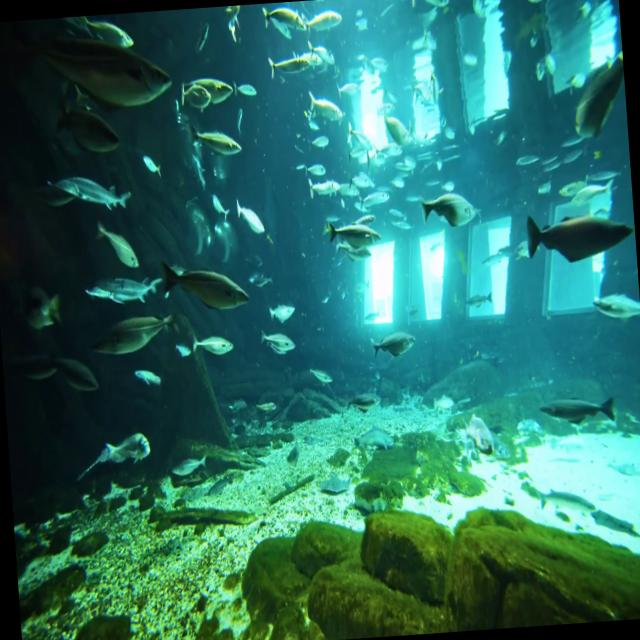fish: (22, 10, 176, 120), (511, 202, 637, 272), (157, 248, 255, 322), (42, 153, 142, 218), (566, 42, 628, 146), (70, 426, 161, 490), (419, 177, 484, 240), (92, 310, 185, 354), (80, 268, 173, 308), (46, 341, 100, 407), (89, 207, 138, 279), (366, 319, 426, 376), (254, 38, 317, 88), (302, 74, 348, 134), (324, 218, 388, 260), (186, 320, 238, 370), (189, 119, 246, 163), (587, 284, 640, 329), (266, 0, 310, 50), (303, 0, 355, 39), (252, 324, 300, 366), (382, 106, 422, 156), (181, 72, 211, 116)
